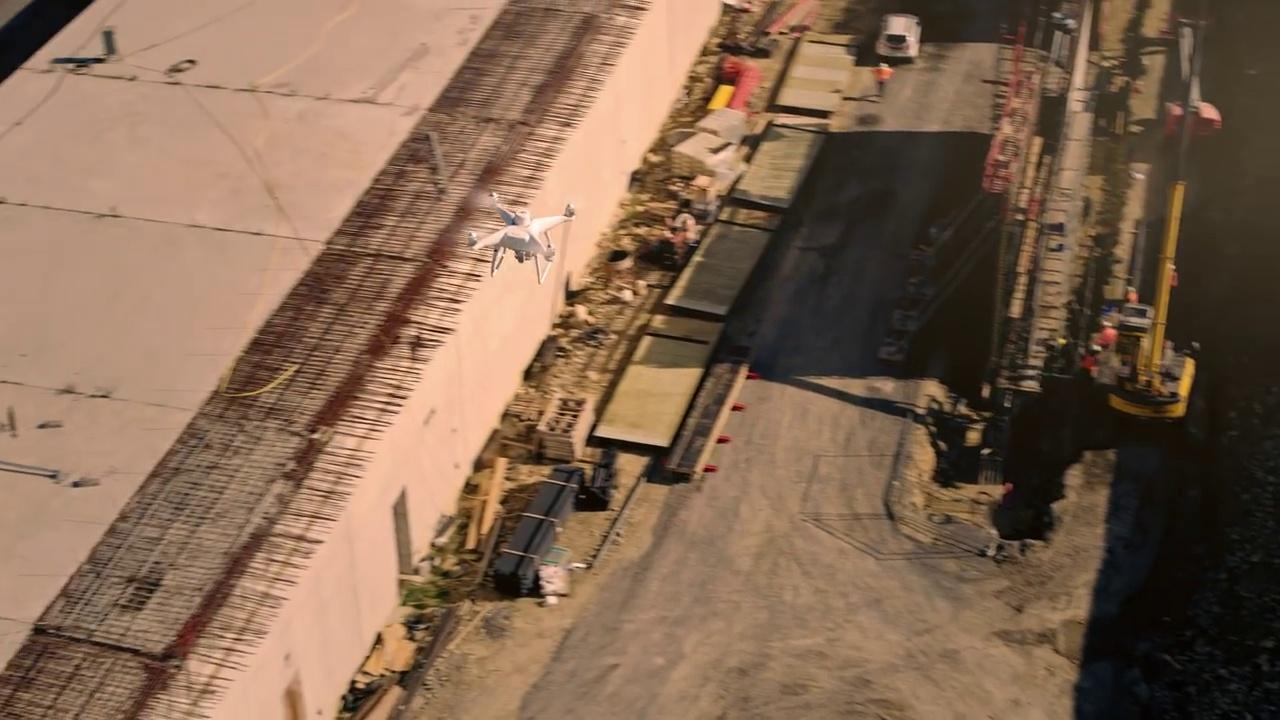drone: (459, 185, 582, 283)
